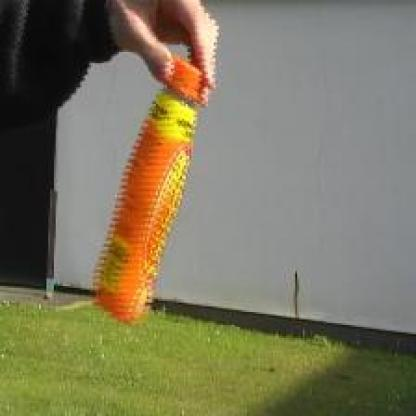other: (84, 49, 209, 327)
